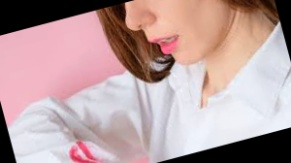lipstick: (58, 133, 100, 163)
